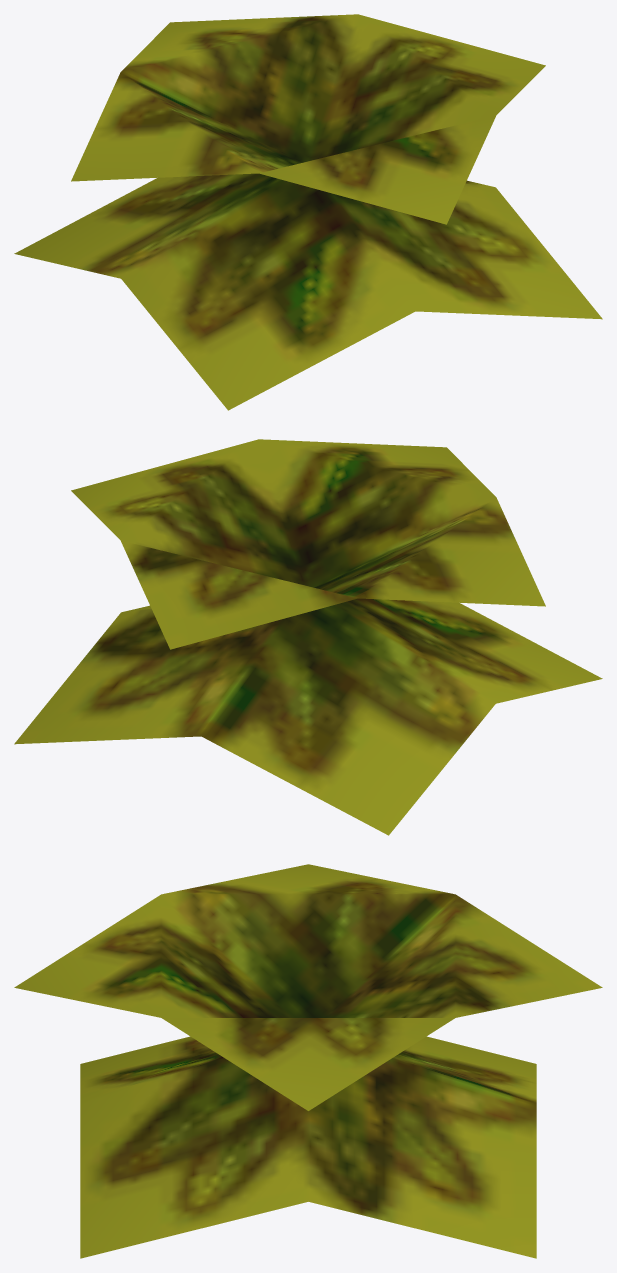
The model's file is world_a_bush_short_f.glb.
The picture shows the model from 3 angles, top to bottom: view 1: azimuth 30°, elevation 25°; view 2: azimuth 150°, elevation 25°; view 3: azimuth 270°, elevation 25°; orthographic projection. The views are drawn at different scales.
Parts seen in each view (by area): view 1: MeshRoot; view 2: MeshRoot; view 3: MeshRoot.
Part boxes in pixels (<box>): MeshRoot: <box>14,14,602,410</box>; MeshRoot: <box>14,439,602,835</box>; MeshRoot: <box>14,864,602,1258</box>.
Size of the model in its own units: 2.03 by 0.7868 by 2.05.
1 material, 1 textured.
